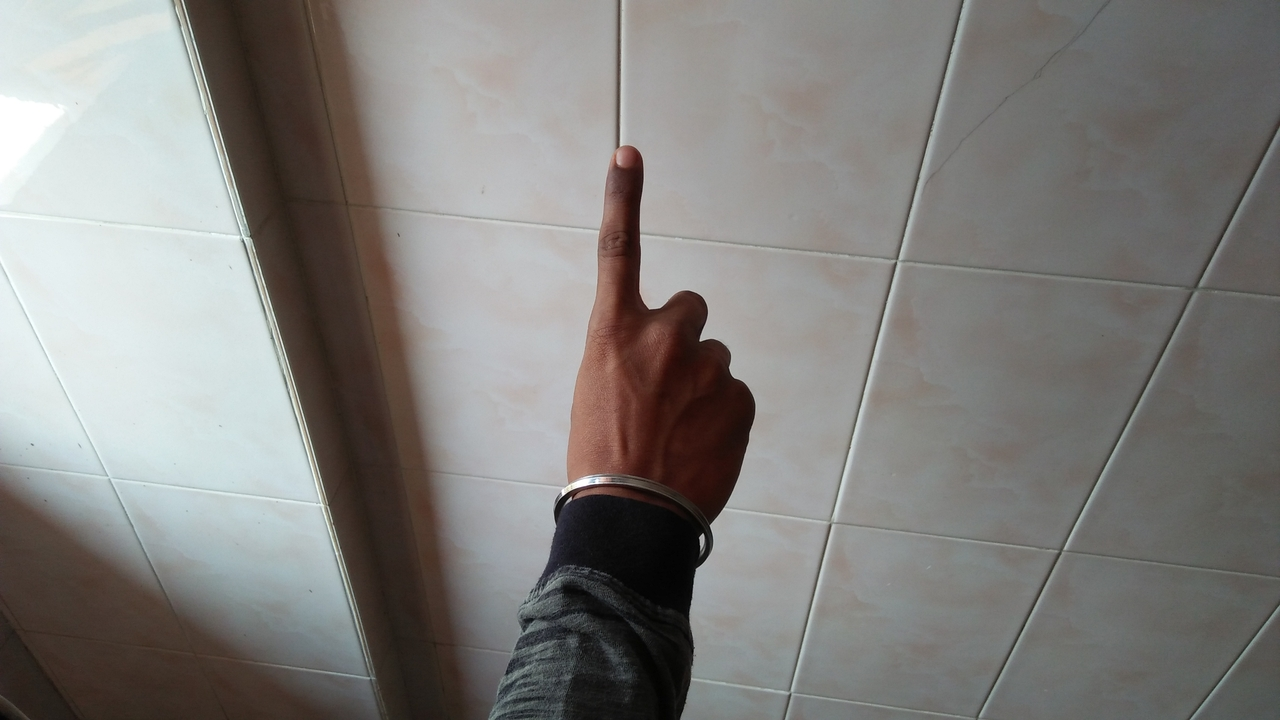fingertip: (602, 136, 650, 178)
